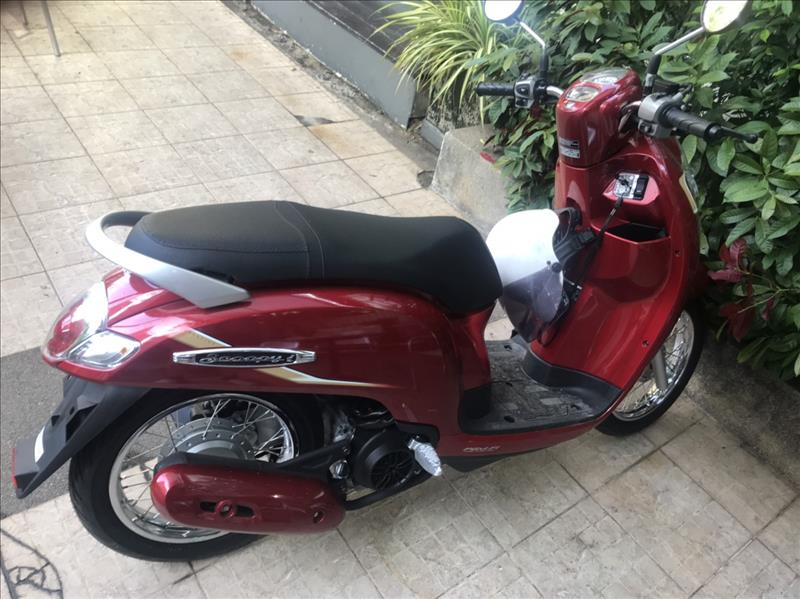motorcycle: (12, 5, 759, 558)
